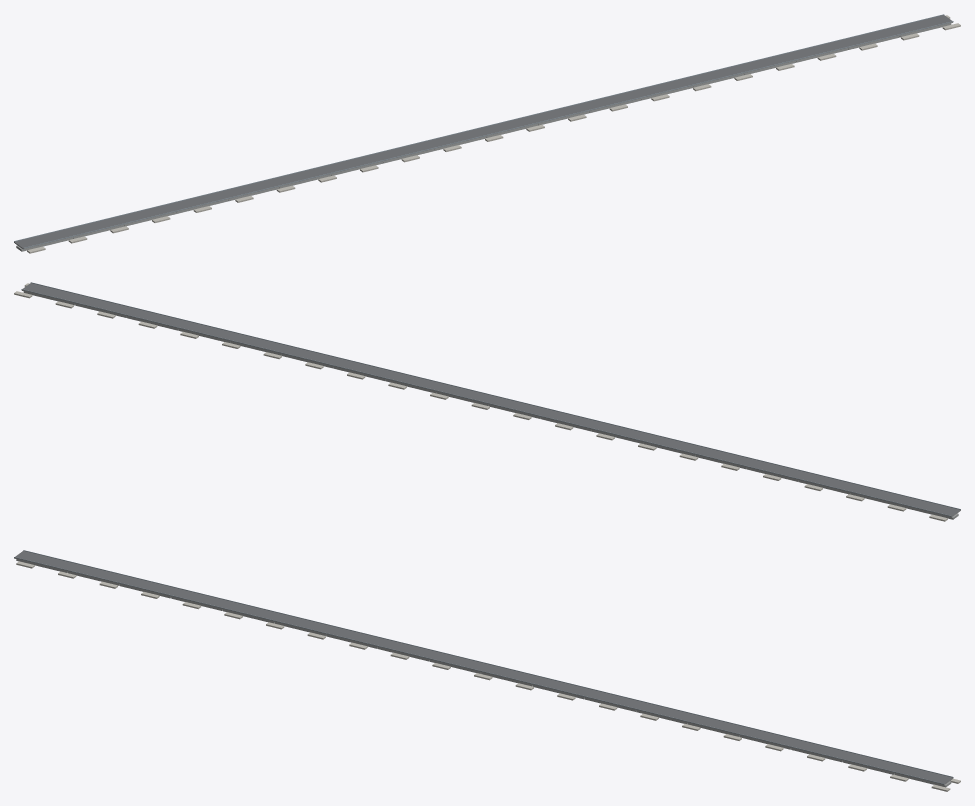
Rendered from source.glb.
3 renders of one model, top to bottom at view 1: azimuth 30°, elevation 25°; view 2: azimuth 150°, elevation 25°; view 3: azimuth 330°, elevation 25°, orthographic.
Visible parts, largest first — view 1: worldgen; view 2: worldgen; view 3: worldgen.
Part boxes in pixels (bbox=[...]): worldgen: bbox=[14, 14, 960, 253]; worldgen: bbox=[14, 282, 960, 521]; worldgen: bbox=[14, 550, 960, 791].
Bounding box in the file's own units: 1911 × 10.2 × 48.28.
